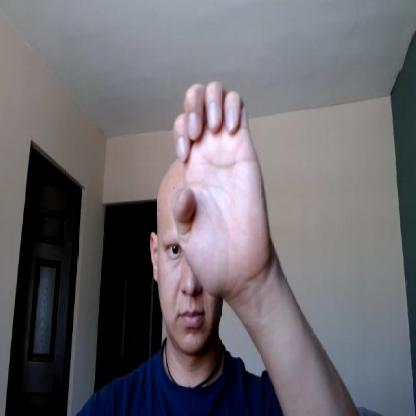E: (173, 83, 270, 297)
